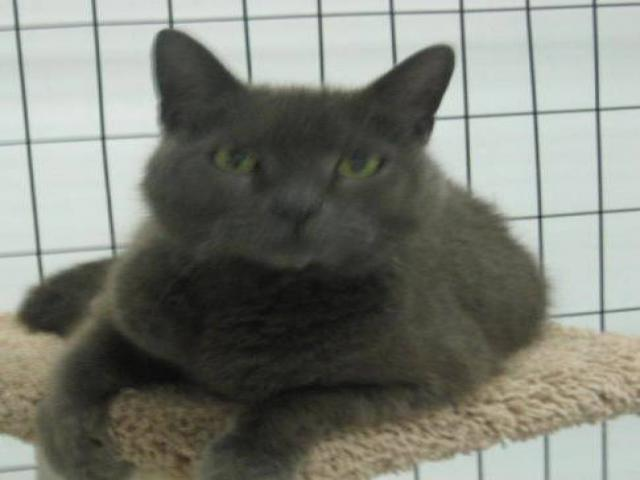cat: (17, 27, 557, 470)
